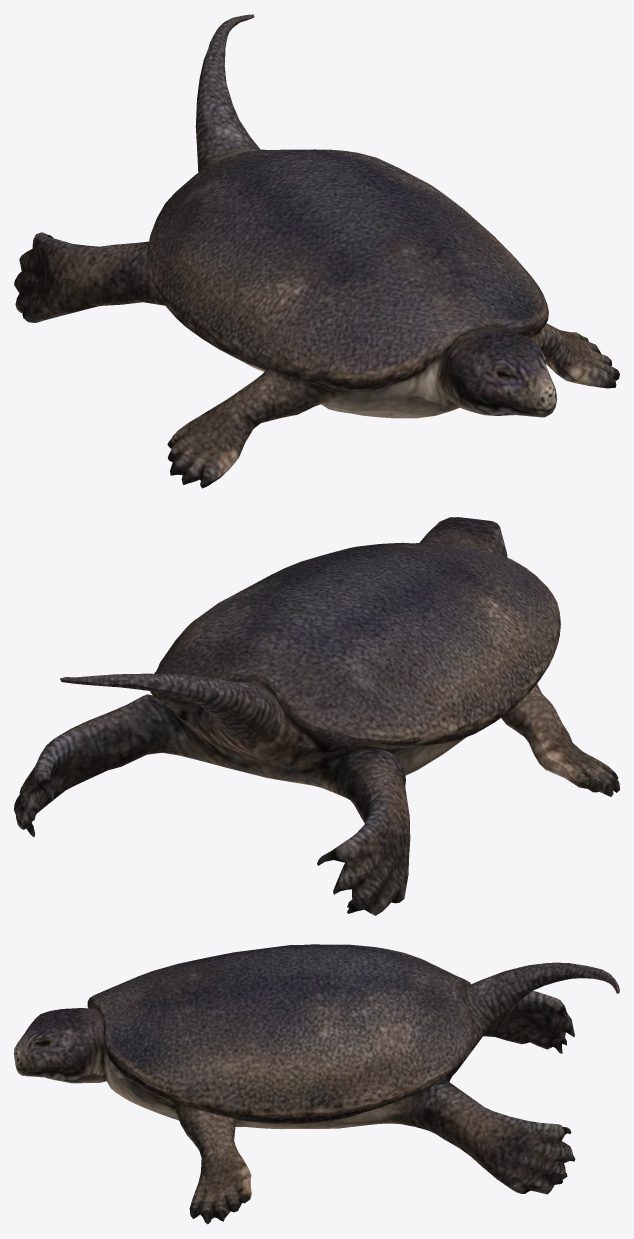
The model's file is Sinosaurosphargis.glb.
The picture shows the model from 3 angles, top to bottom: view 1: azimuth 30°, elevation 25°; view 2: azimuth 150°, elevation 25°; view 3: azimuth 270°, elevation 25°; orthographic projection. The views are drawn at different scales.
Visible parts, largest first — view 1: geometry_0; view 2: geometry_0; view 3: geometry_0.
Boxes of the visible parts, bbox=[...] form: geometry_0: bbox=[14, 14, 619, 488]; geometry_0: bbox=[14, 517, 619, 915]; geometry_0: bbox=[14, 944, 619, 1224].
Bounding box in the file's own units: 0.7106 × 0.3428 × 1.
1 material, 1 textured.
